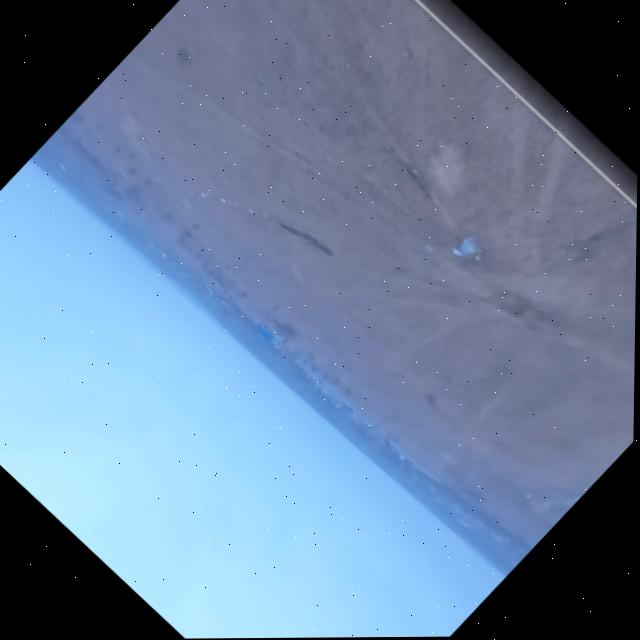planedrone: (255, 315, 292, 351)
